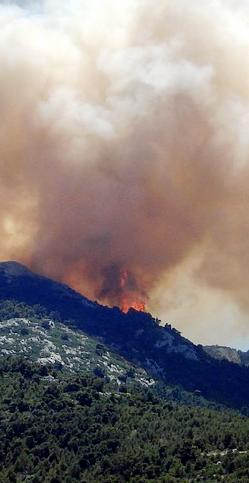fire: (98, 280, 166, 328)
smoke: (0, 0, 249, 343)
